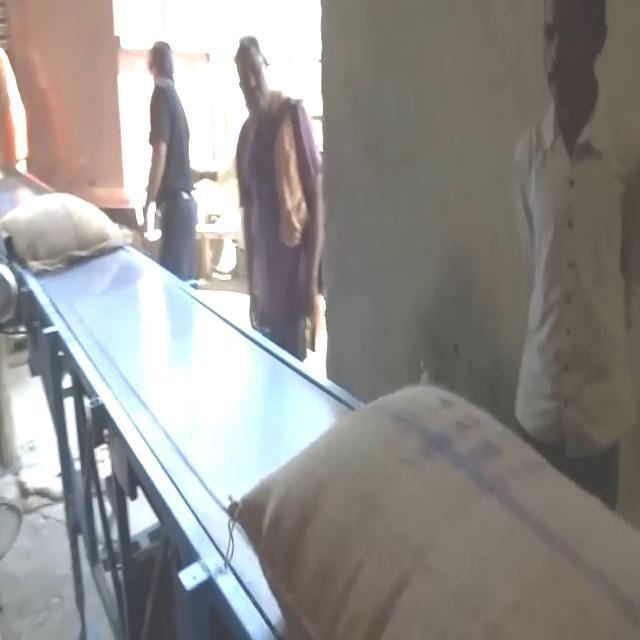gunny_bag: (223, 385, 640, 638), (0, 193, 133, 283)
